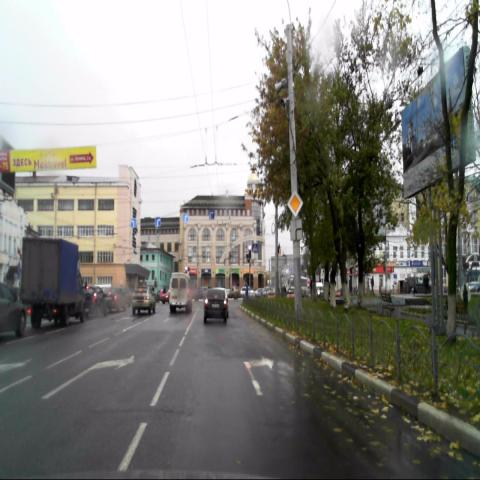8_13: (290, 218, 302, 240)
